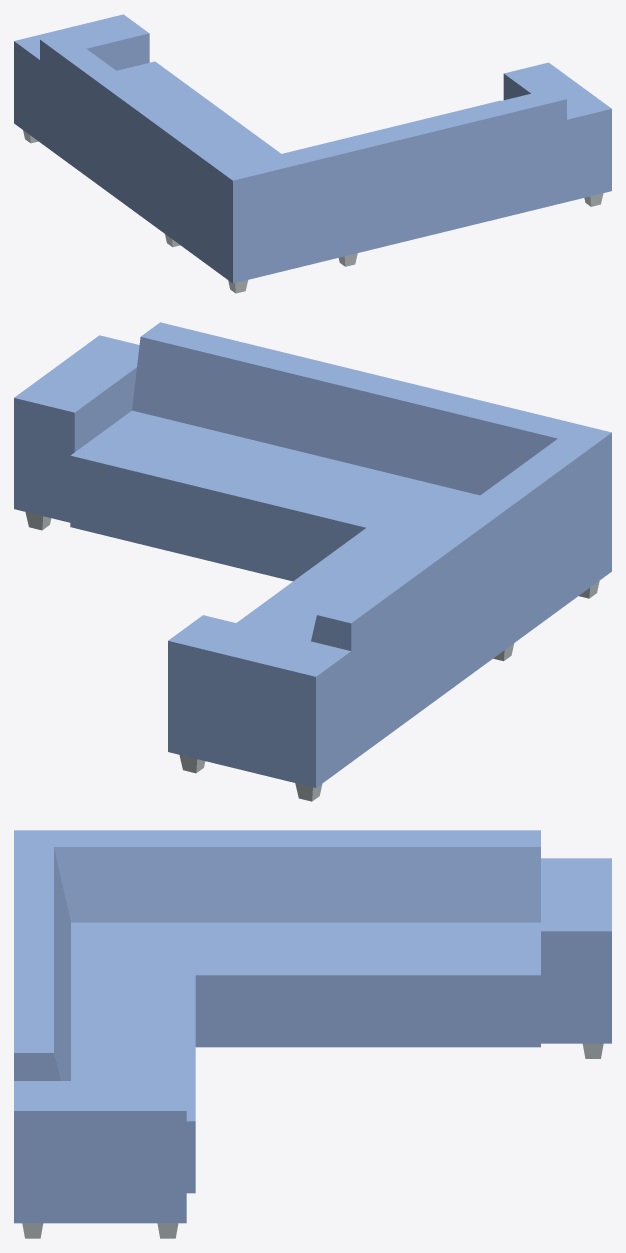
The model's file is lounge-design-sofa-corner.glb.
The picture shows the model from 3 angles, top to bottom: view 1: azimuth 30°, elevation 25°; view 2: azimuth 150°, elevation 25°; view 3: azimuth 270°, elevation 25°; orthographic projection. The views are drawn at different scales.
Parts seen in each view (by area): view 1: Mesh0, Mesh1; view 2: Mesh0, Mesh1; view 3: Mesh0, Mesh1.
Part boxes in pixels (x1,y1,x2,y2): Mesh0: (14, 14, 611, 283); Mesh1: (23, 130, 603, 293); Mesh0: (14, 322, 611, 787); Mesh1: (25, 512, 599, 801); Mesh0: (14, 830, 611, 1223); Mesh1: (22, 1043, 603, 1238).
Size of the model in its own units: 1.35 by 0.4 by 1.35.
